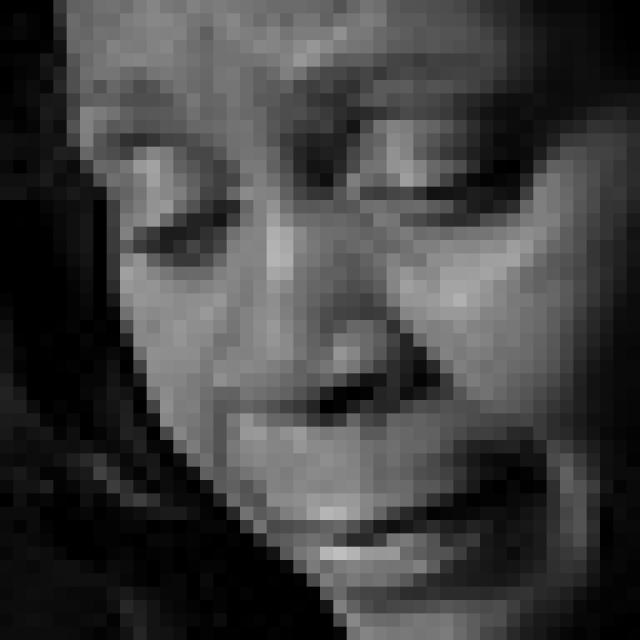sad: (126, 39, 607, 622)
